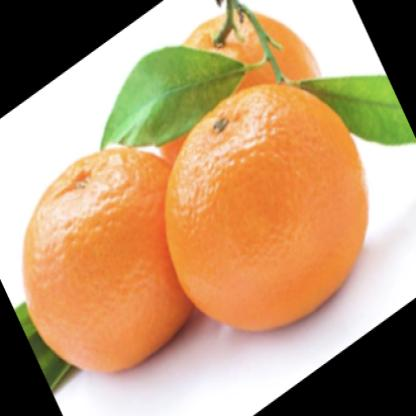fresh: (24, 3, 367, 376)
